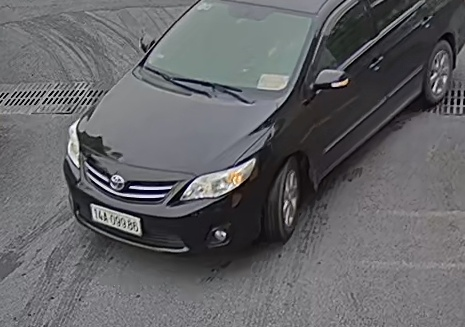vehicle plate: (87, 198, 146, 239)
